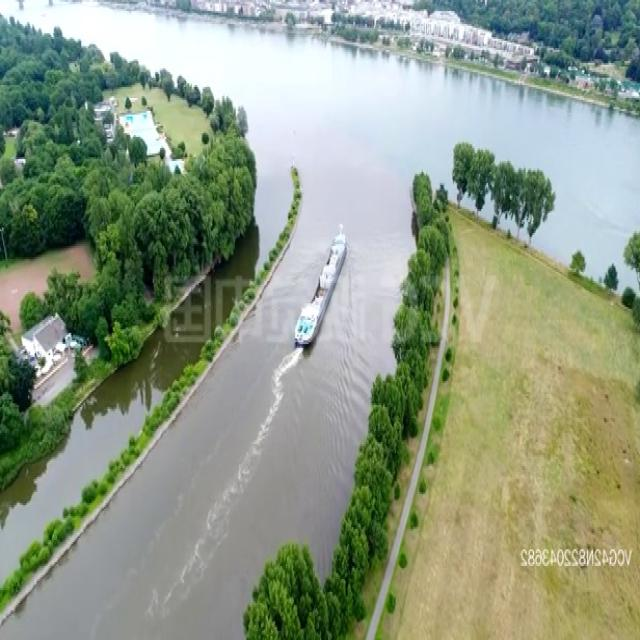cargoship: (294, 224, 348, 350)
